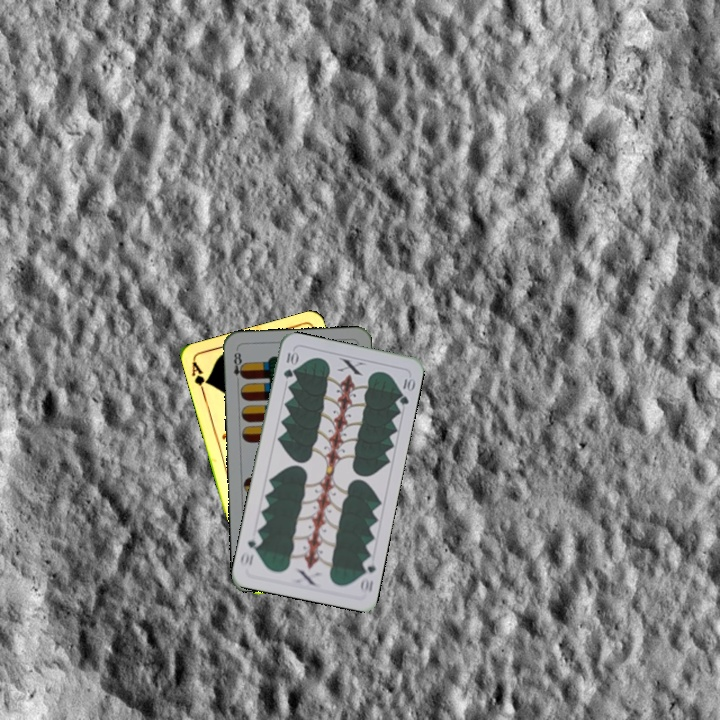E8: (230, 348, 247, 387)
G10: (356, 554, 378, 597), (279, 348, 299, 381)
GA: (188, 358, 212, 398)
